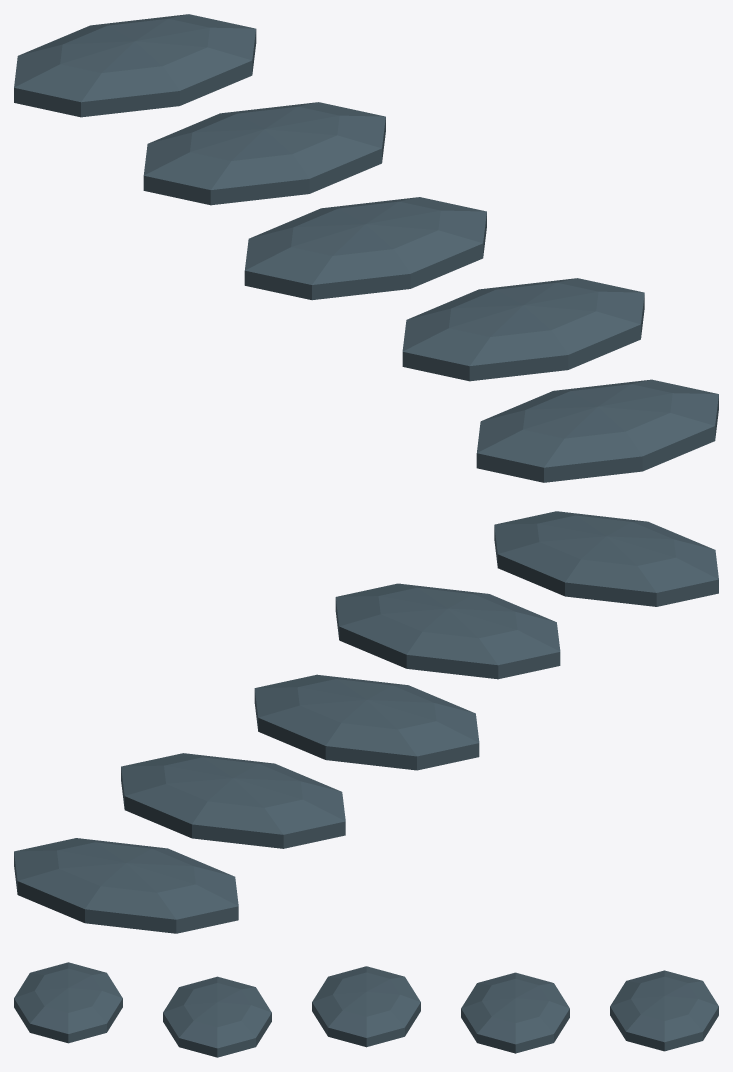
File: winter-hearth-village-stepping-stone-path-1109d3b2__21836.glb
3 views of the same model, one above another, from view 1: azimuth 30°, elevation 25°; view 2: azimuth 150°, elevation 25°; view 3: azimuth 270°, elevation 25° (orthographic). The views are drawn at different scales.
Parts seen in each view (by area): view 1: stepping-stone-path-iron; view 2: stepping-stone-path-iron; view 3: stepping-stone-path-iron.
Part boxes in pixels (x1,y1,x2,y2): stepping-stone-path-iron: (14,14,718,482); stepping-stone-path-iron: (14,511,718,933); stepping-stone-path-iron: (14,962,718,1057).
Bounding box in the file's own units: 0.6844 × 0.1103 × 2.37.
